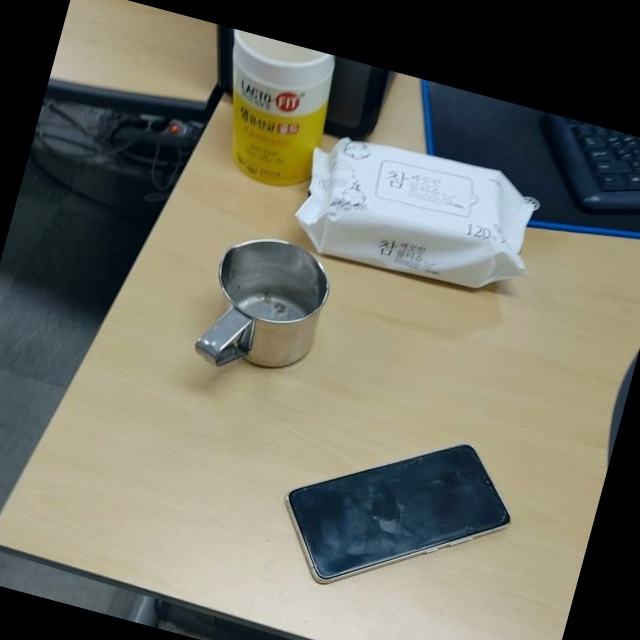cup: (193, 224, 340, 390)
phone: (267, 399, 526, 627)
